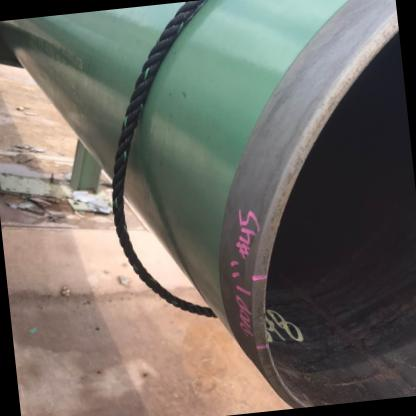Bevel: (250, 300, 272, 330)
